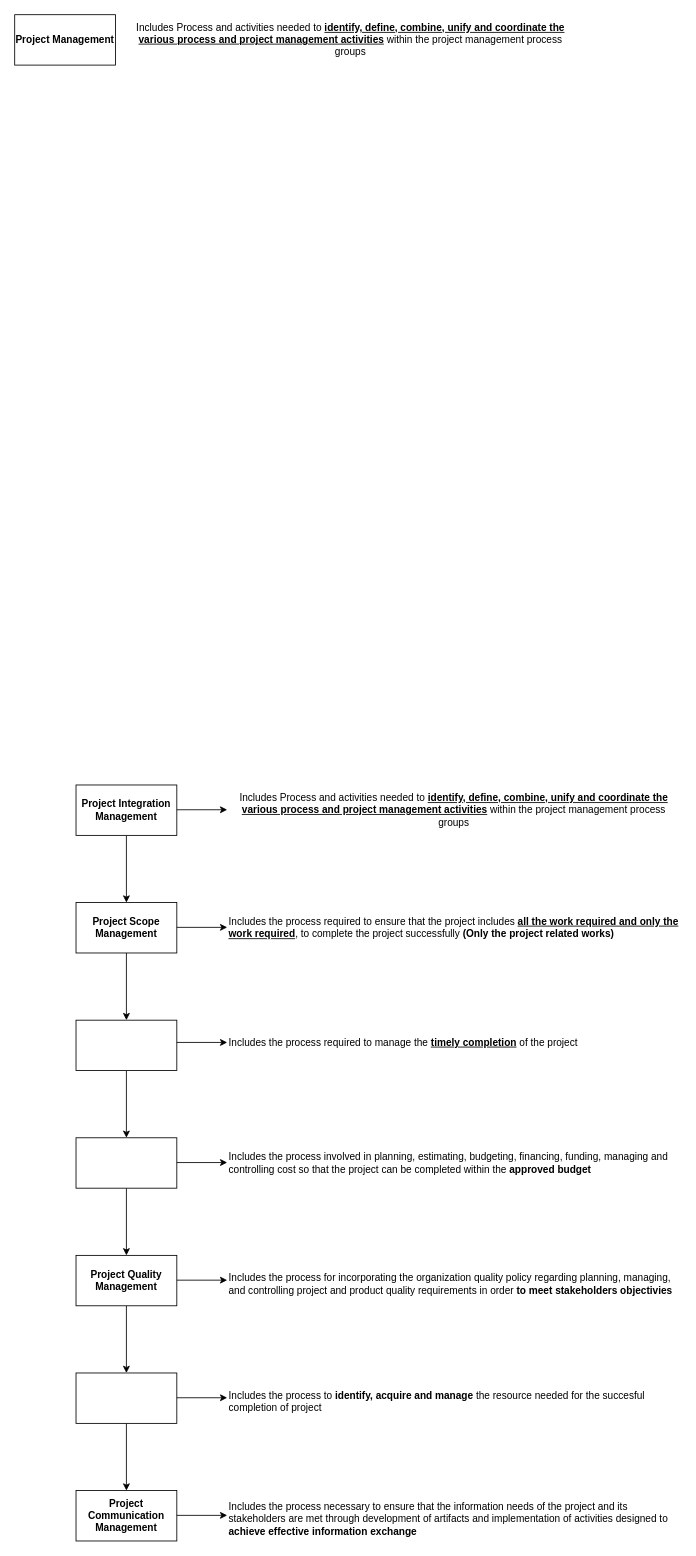
Some shapes in this 696 by 1556 pixel diagram are drawn without their labels. The shapes that lost their labels are listed below. From the top down, each one's centre as x and y in pixels, then its label:
pixel 126 1045: Project Schedule Management
pixel 126 1162: Project Cost Management
pixel 126 1397: Project Resource Management
